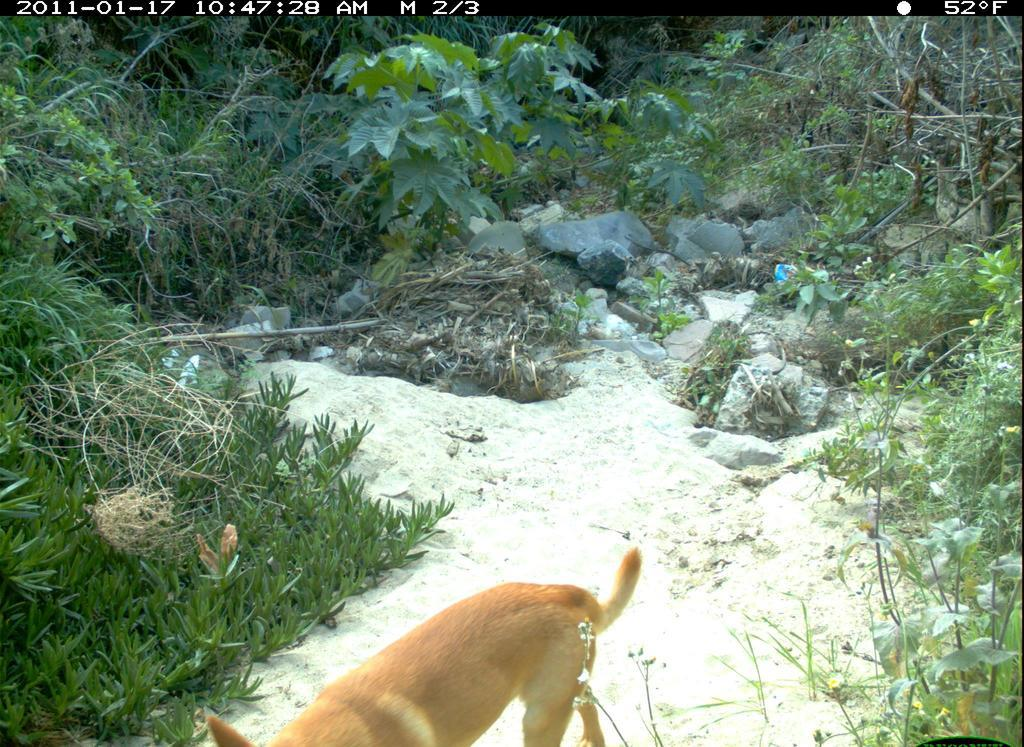dog: (196, 543, 656, 747)
